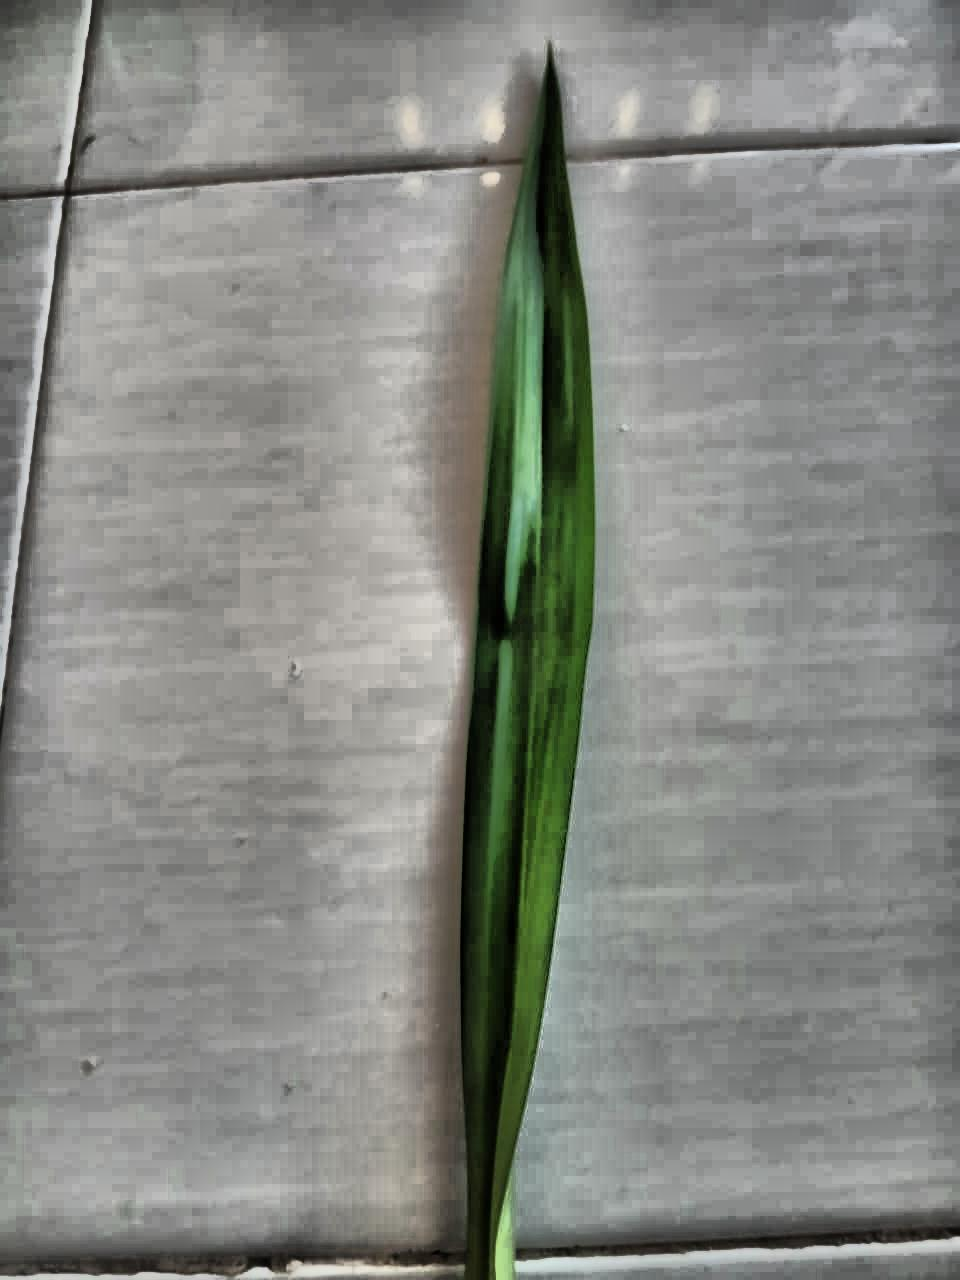daun pandan: (459, 52, 595, 1279)
